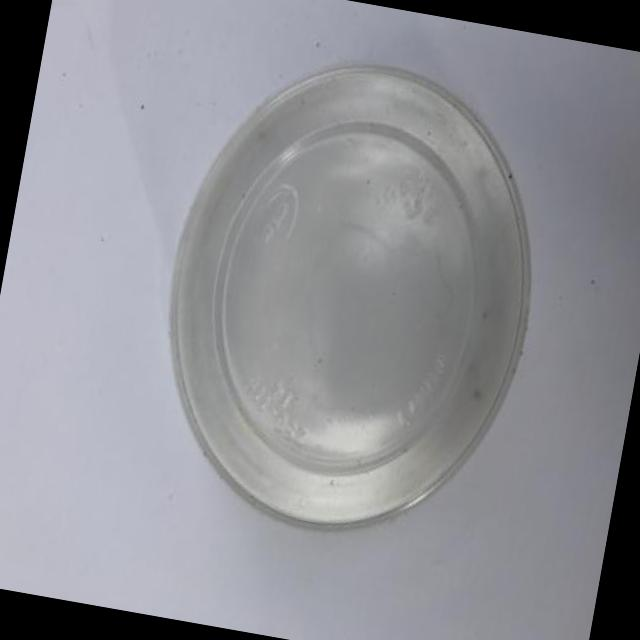Recycle: (132, 34, 568, 558)
